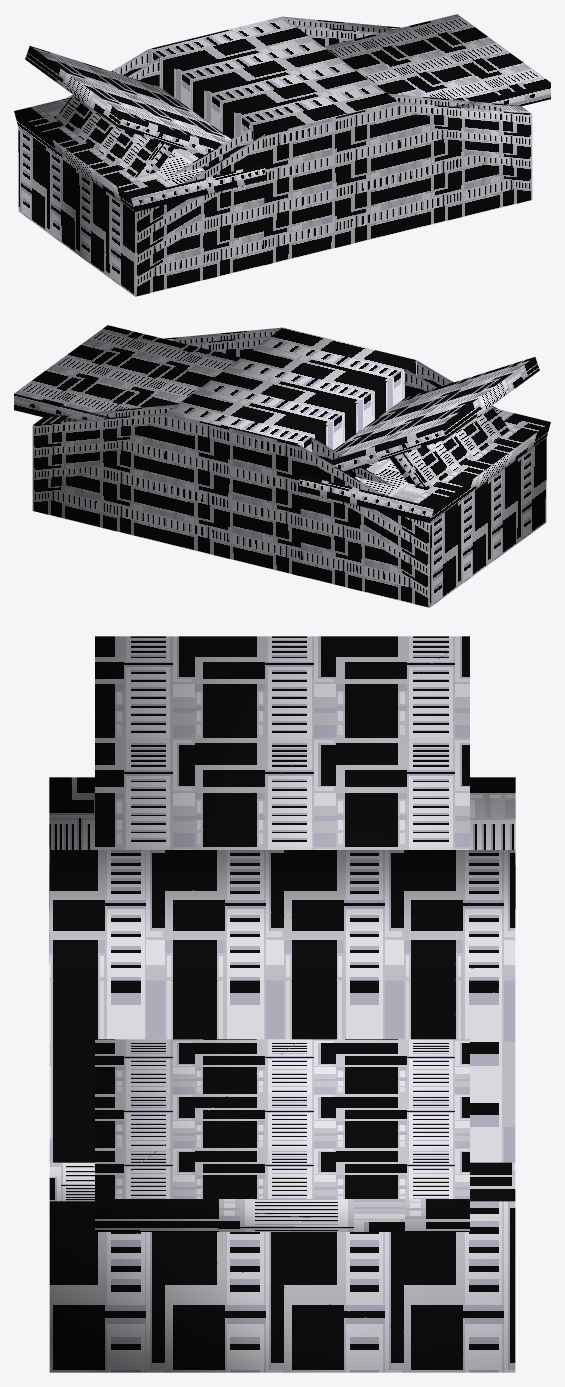
Rendered from 3428IMIG20_27.gltf.
The picture shows the model from 3 angles, top to bottom: view 1: azimuth 30°, elevation 25°; view 2: azimuth 150°, elevation 25°; view 3: azimuth 270°, elevation 25°; orthographic projection. The views are drawn at different scales.
Visible parts, largest first — view 1: 3428IMIG20_27; view 2: 3428IMIG20_27; view 3: 3428IMIG20_27.
Part boxes in pixels (bbox=[...]): 3428IMIG20_27: bbox=[14, 14, 550, 296]; 3428IMIG20_27: bbox=[14, 325, 550, 607]; 3428IMIG20_27: bbox=[49, 636, 515, 1372].
Bounding box in the file's own units: 1.92 × 0.7388 × 0.896.
1 material, 1 textured.
